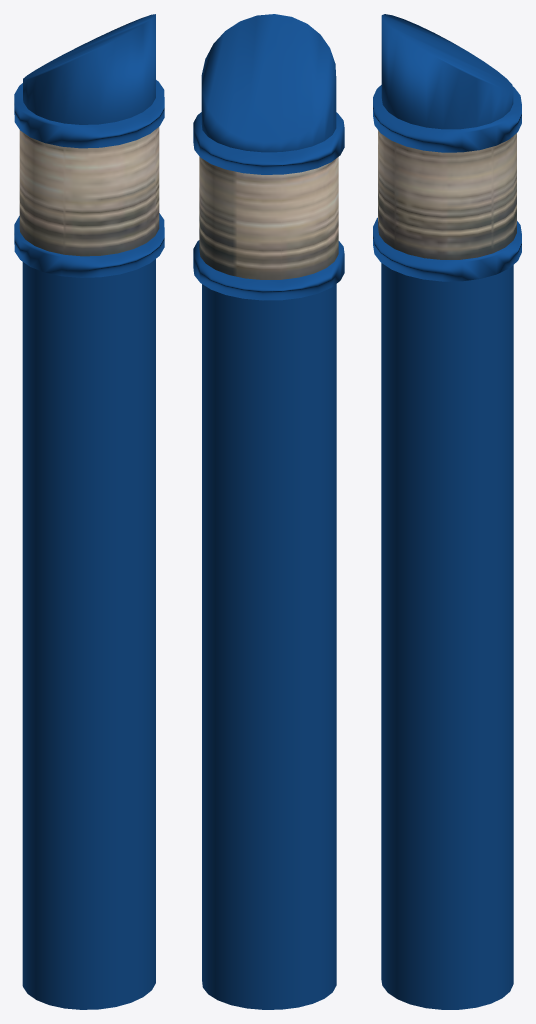
Rendered from parklampe.fbx.
3 renders of one model, left to right at view 1: azimuth 30°, elevation 25°; view 2: azimuth 150°, elevation 25°; view 3: azimuth 270°, elevation 25°, orthographic. The views are drawn at different scales.
Visible parts, largest first — view 1: Mesh; view 2: Mesh; view 3: Mesh.
Boxes of the visible parts, bbox=[...] form: Mesh: bbox=[14, 14, 164, 1009]; Mesh: bbox=[193, 14, 344, 1009]; Mesh: bbox=[373, 14, 521, 1009].
Bounding box in the file's own units: 19.95 × 139 × 19.32.
